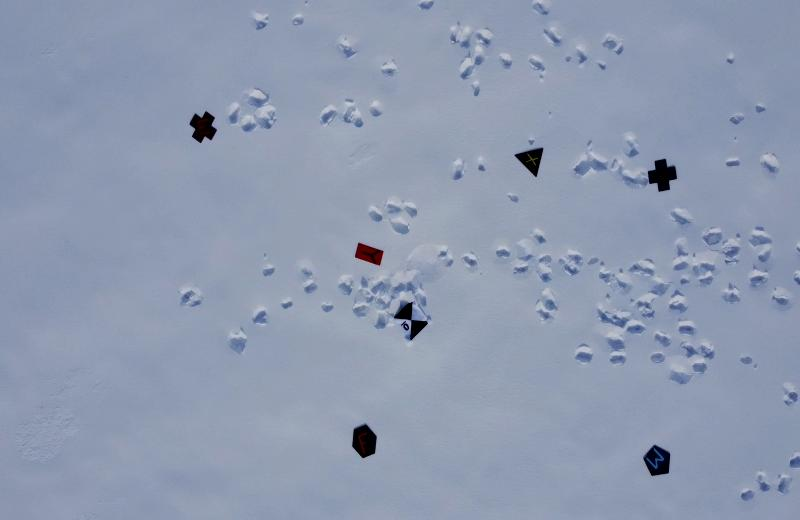Cross: (187, 101, 222, 149), (644, 155, 683, 197)
Hexagon: (345, 418, 383, 462)
Pentagon: (638, 441, 676, 488)
Rectangle: (351, 235, 389, 272)
Triangle: (510, 139, 552, 181)
